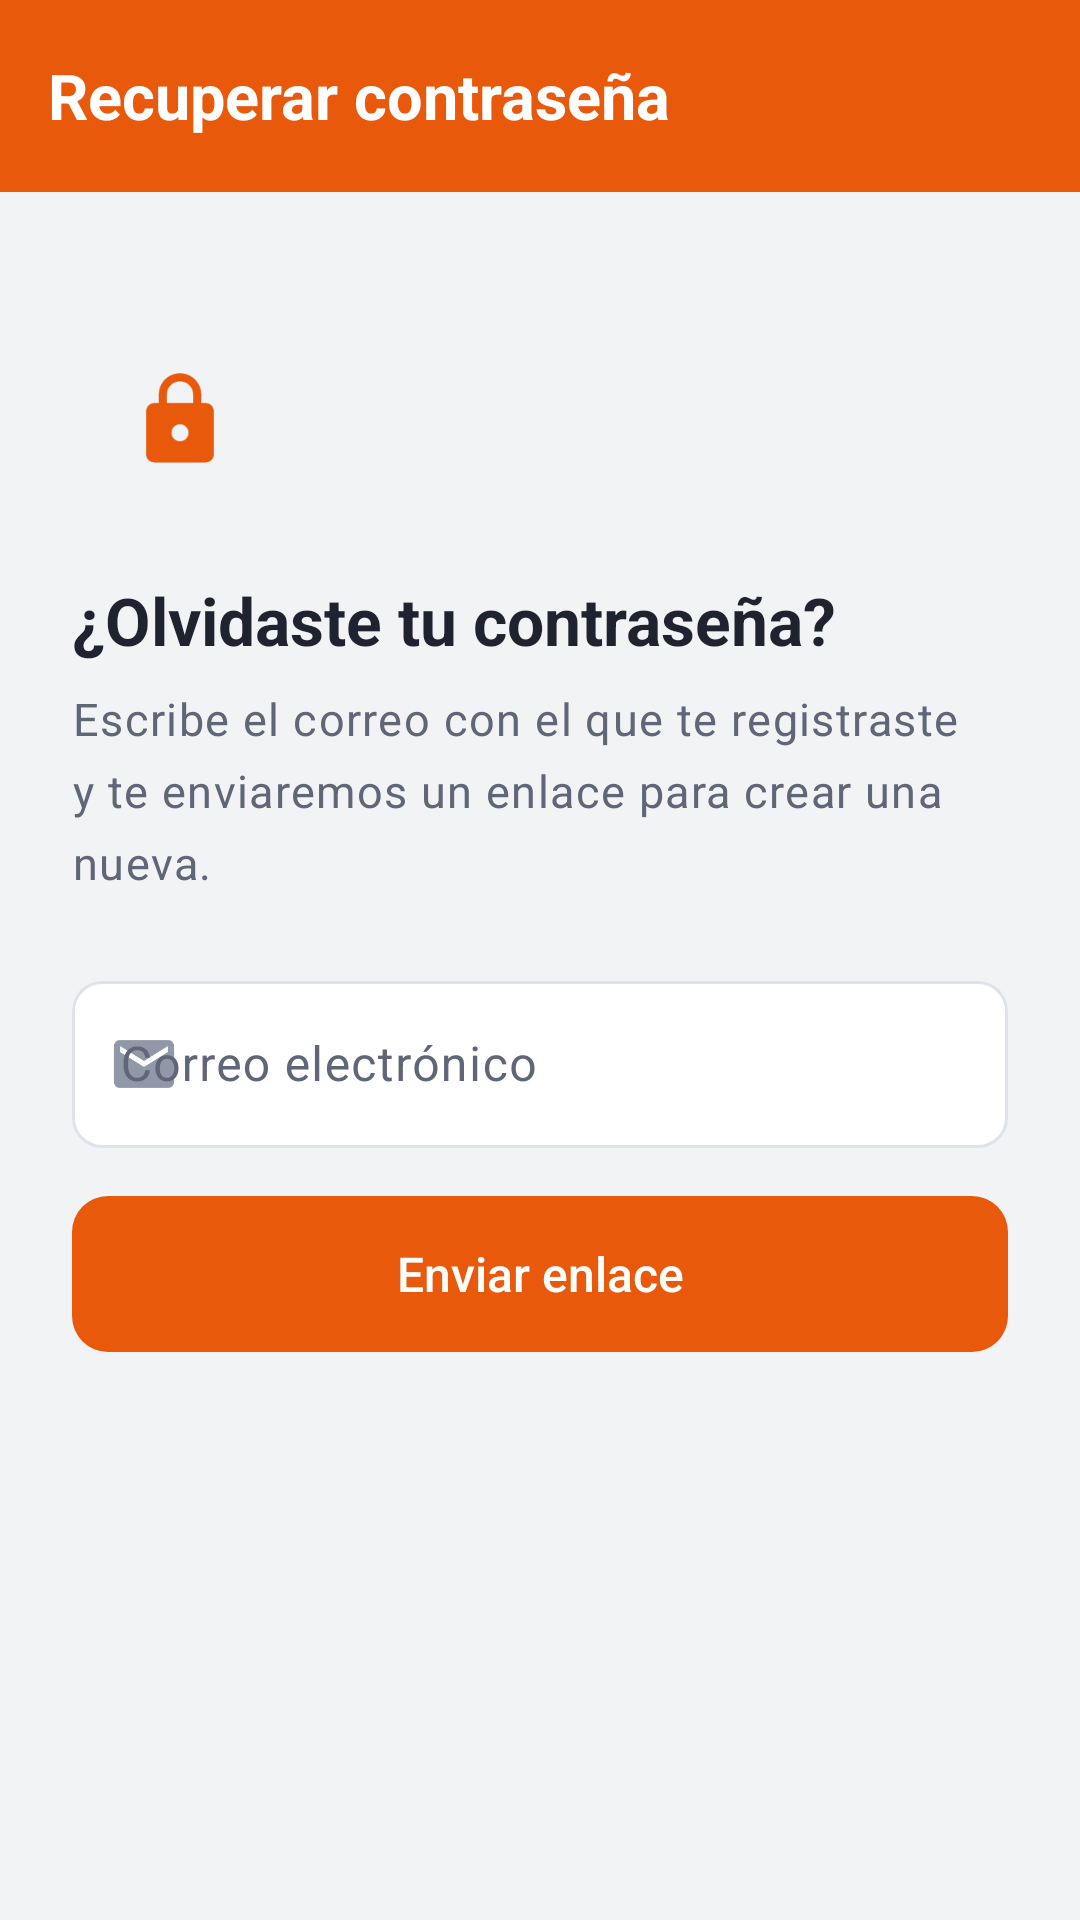

Where to tap for icons on this 1080 x 1920 app screen, as [x,y]:
lock: [180,418]
